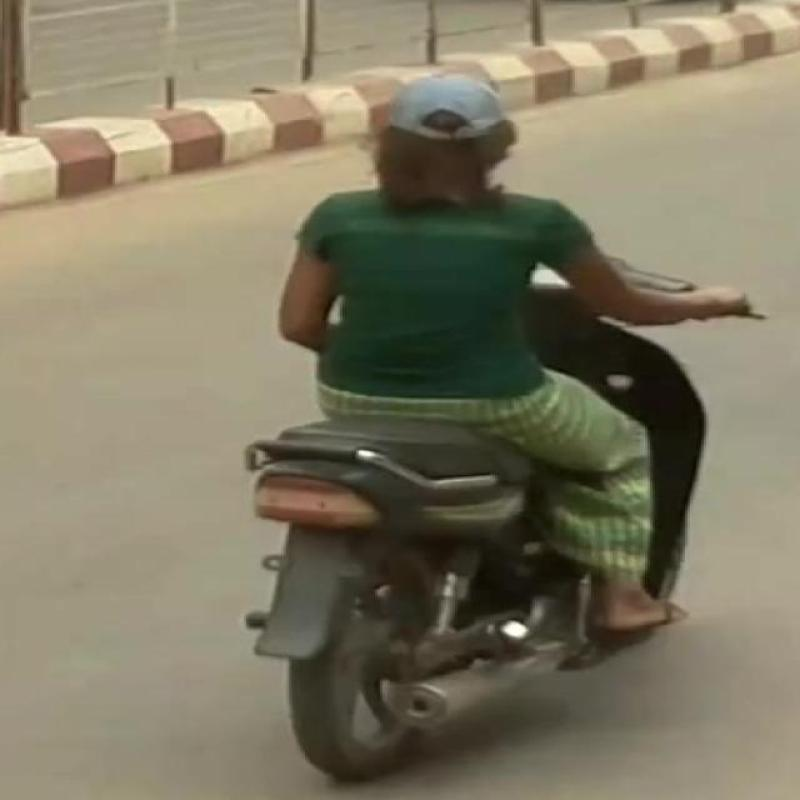nohelmet: (335, 66, 566, 202)
